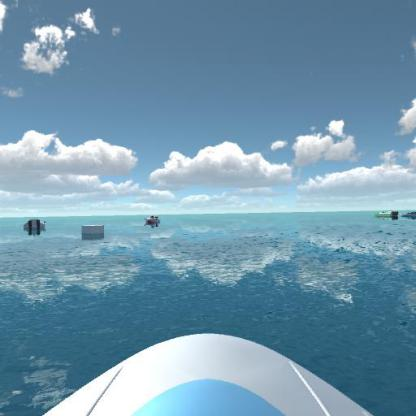usv0: (369, 206, 401, 225)
usv1: (20, 214, 48, 235), (399, 206, 415, 220)
usv3: (144, 212, 163, 226)
